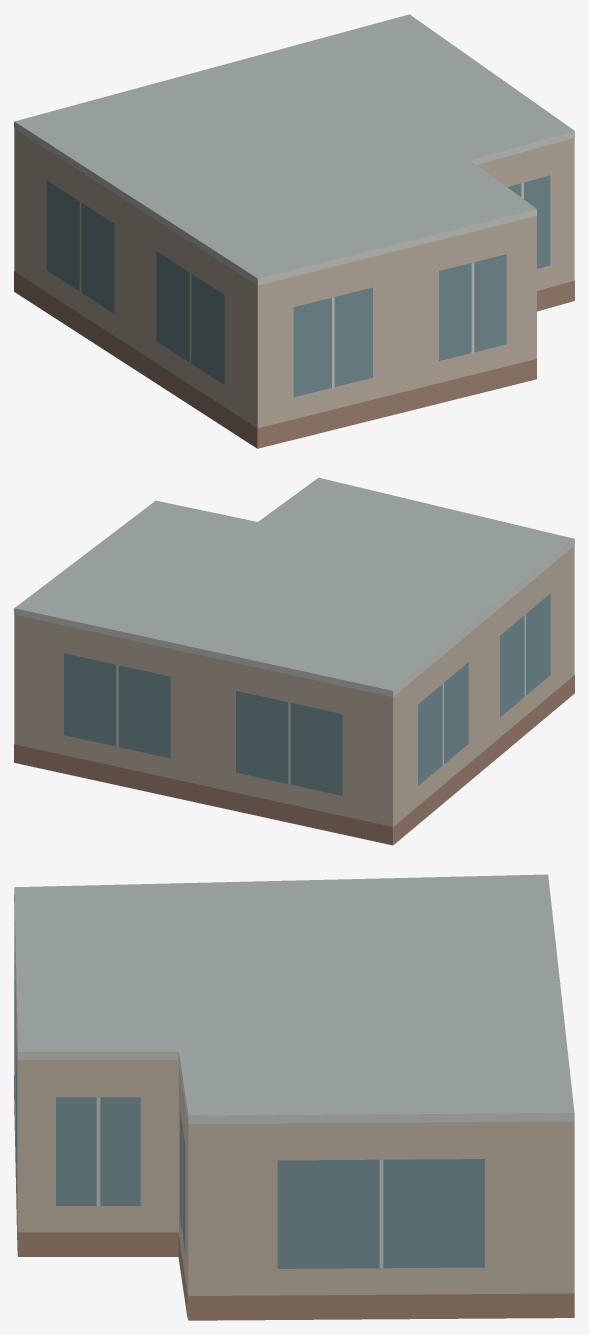
The model's file is survey-upis-32950434.glb.
3 renders of one model, top to bottom at view 1: azimuth 30°, elevation 25°; view 2: azimuth 150°, elevation 25°; view 3: azimuth 270°, elevation 25°, orthographic. The views are drawn at different scales.
Parts seen in each view (by area): view 1: survey-upis-32950434.tmp; view 2: survey-upis-32950434.tmp; view 3: survey-upis-32950434.tmp.
Boxes of the visible parts, bbox=[...] form: survey-upis-32950434.tmp: bbox=[14, 14, 574, 448]; survey-upis-32950434.tmp: bbox=[14, 477, 574, 845]; survey-upis-32950434.tmp: bbox=[14, 874, 574, 1320].
Bounding box in the file's own units: 7.72 × 3.05 × 7.57.
